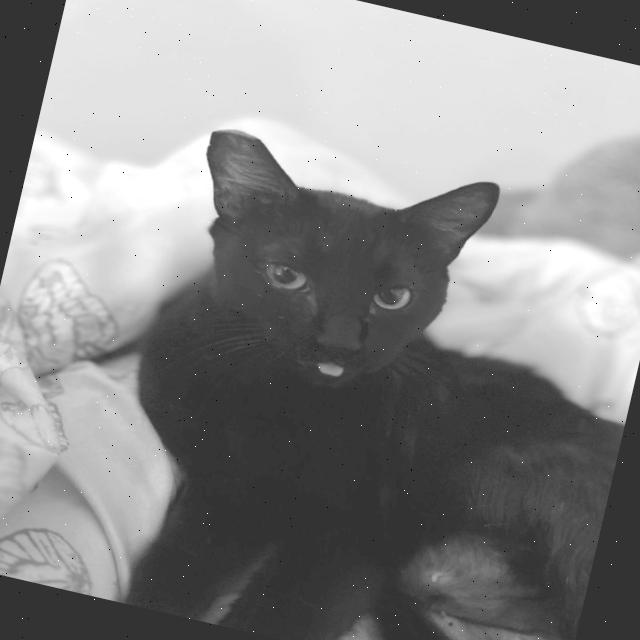bombay_cat: (136, 92, 540, 466)
